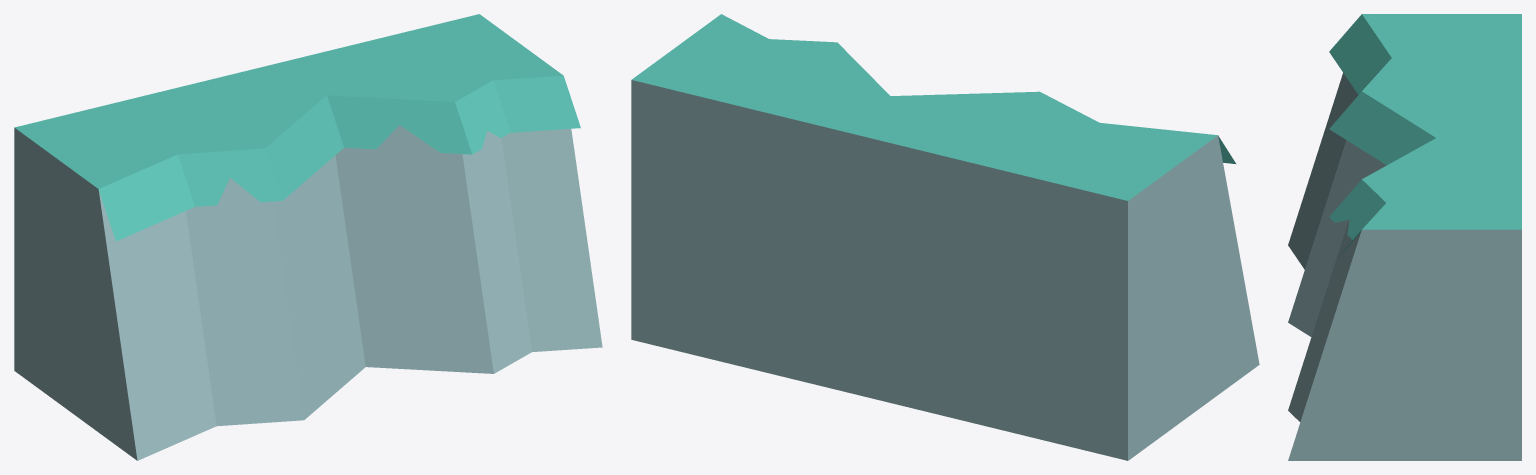
File: cliffGrey_half.fbx
3 views of the same model, side by side, from view 1: azimuth 30°, elevation 25°; view 2: azimuth 150°, elevation 25°; view 3: azimuth 270°, elevation 25° (orthographic). The views are drawn at different scales.
Parts seen in each view (by area): view 1: cliffGrey_half; view 2: cliffGrey_half; view 3: cliffGrey_half.
Part boxes in pixels (bbox=[...]): cliffGrey_half: bbox=[14, 14, 602, 460]; cliffGrey_half: bbox=[631, 14, 1259, 460]; cliffGrey_half: bbox=[1288, 14, 1521, 460].
Size of the model in its own units: 10 by 5 by 4.58.
